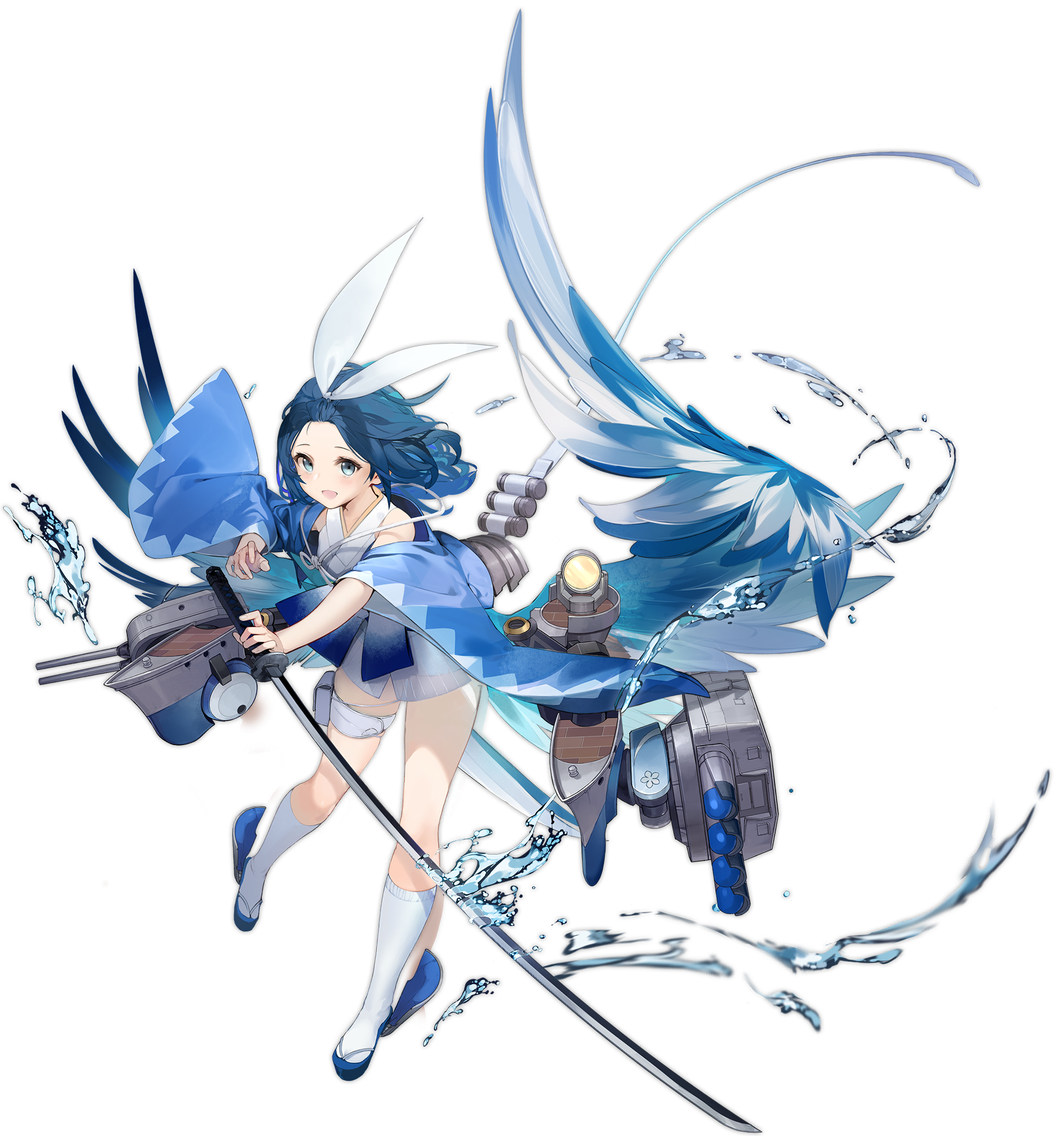person: (112, 349, 580, 1118)
